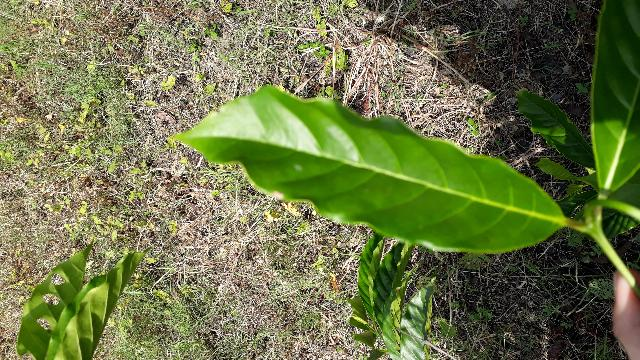healthy: (170, 86, 560, 252)
